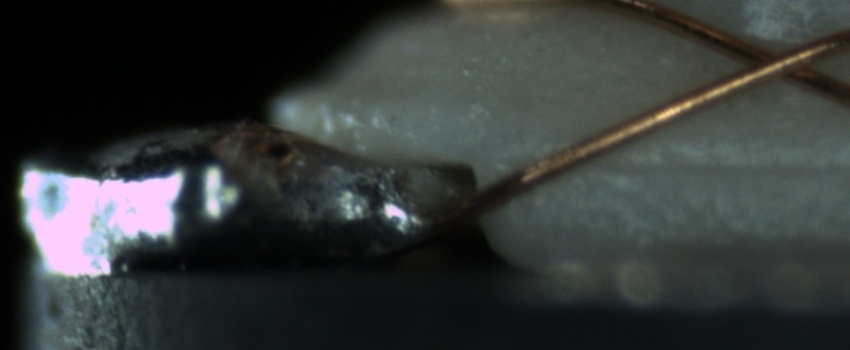CL: (709, 28, 840, 91)
DL: (570, 131, 844, 198)
